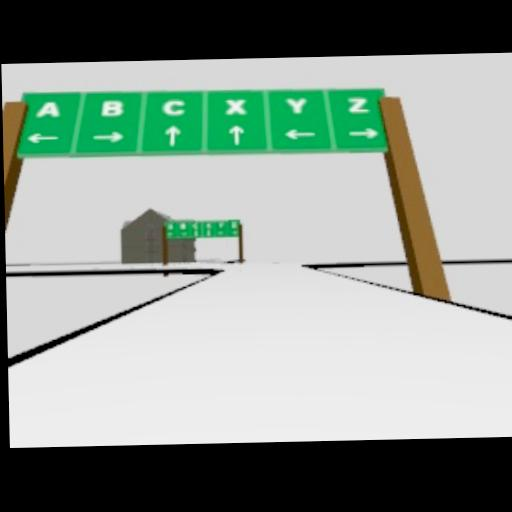A: (36, 99, 61, 121)
B: (101, 99, 124, 118)
C: (161, 97, 188, 117)
Left: (25, 132, 63, 144), (282, 128, 317, 139)
Right: (91, 130, 125, 143), (348, 127, 379, 139)
Straight: (164, 124, 182, 145), (228, 124, 246, 145)
X: (224, 96, 249, 118)
Y: (284, 95, 309, 116)
Z: (346, 96, 371, 116)
